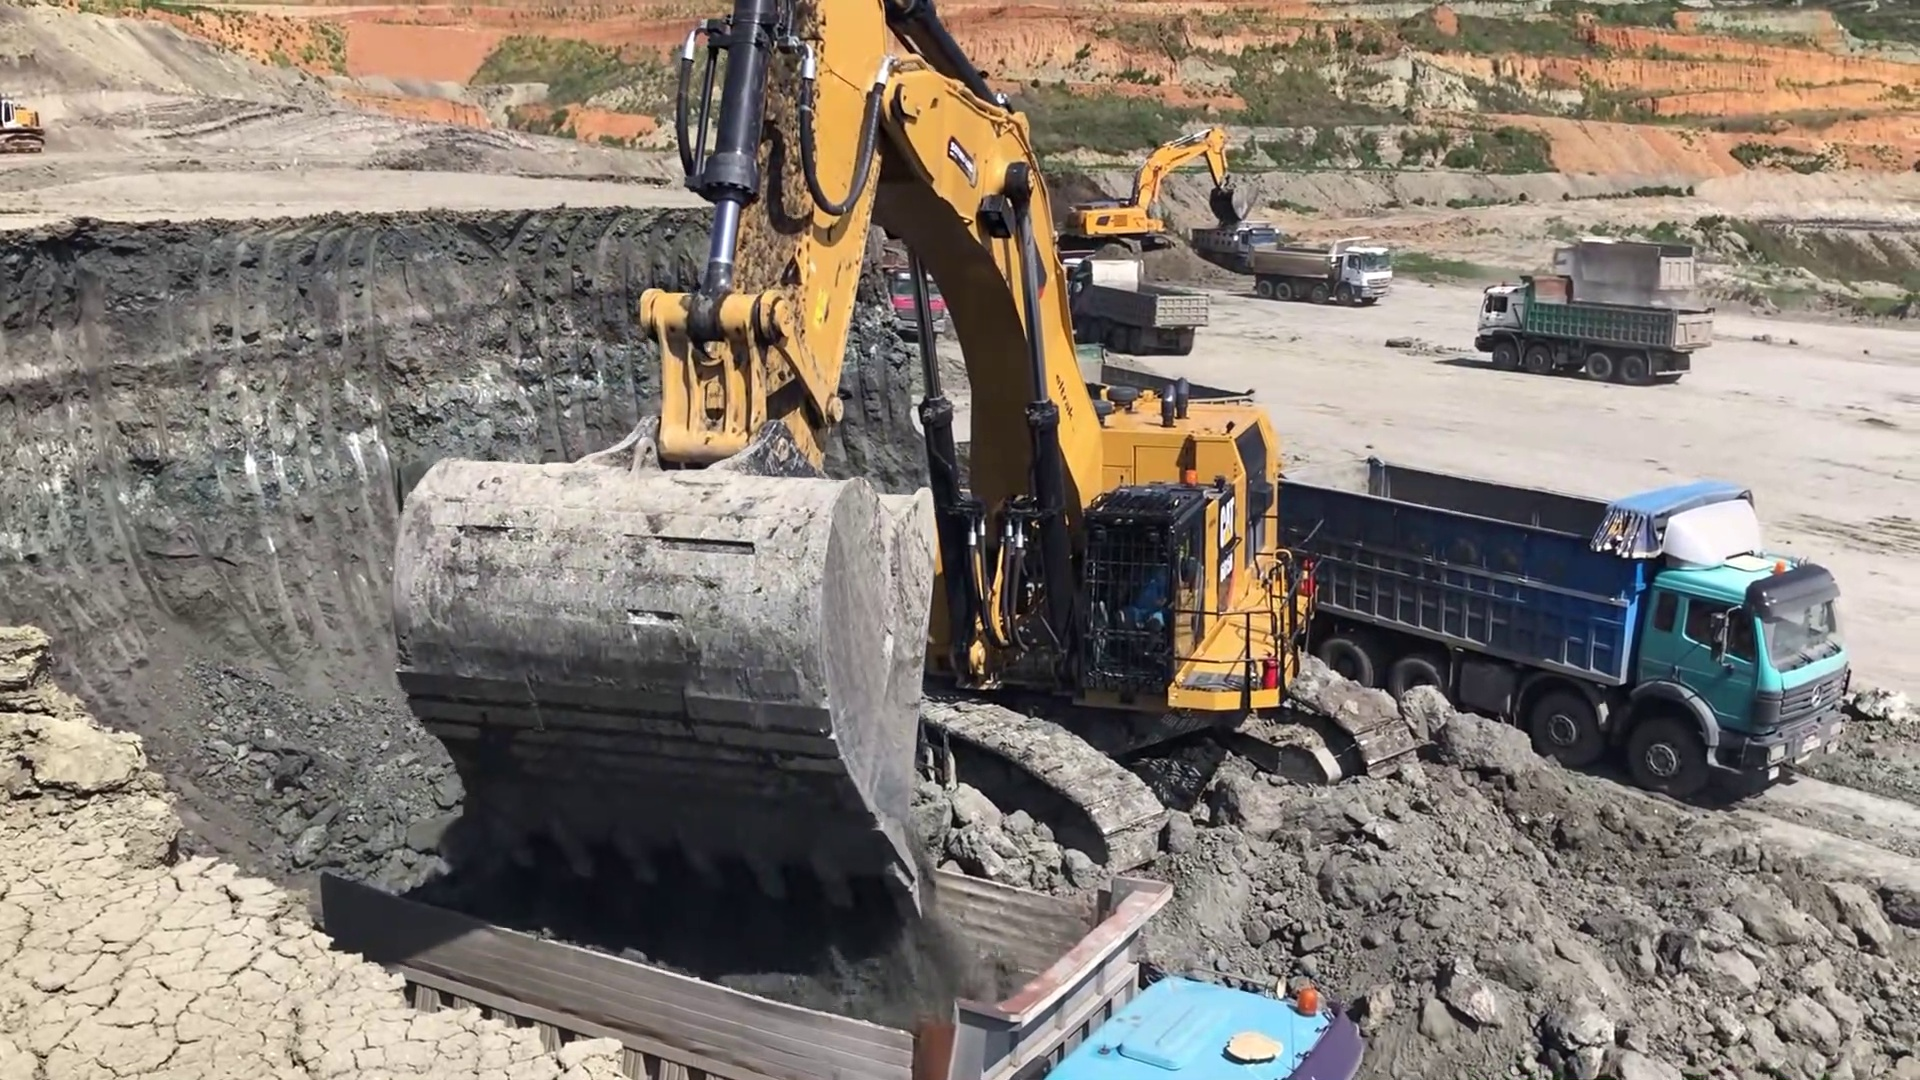excavator: (375, 1, 1313, 926), (1065, 129, 1255, 287)
truck: (318, 789, 1385, 1080), (1250, 444, 1840, 816), (1480, 272, 1720, 382), (1059, 256, 1211, 355), (1545, 228, 1697, 295), (1266, 236, 1389, 310), (885, 257, 949, 345), (1200, 216, 1274, 268)
